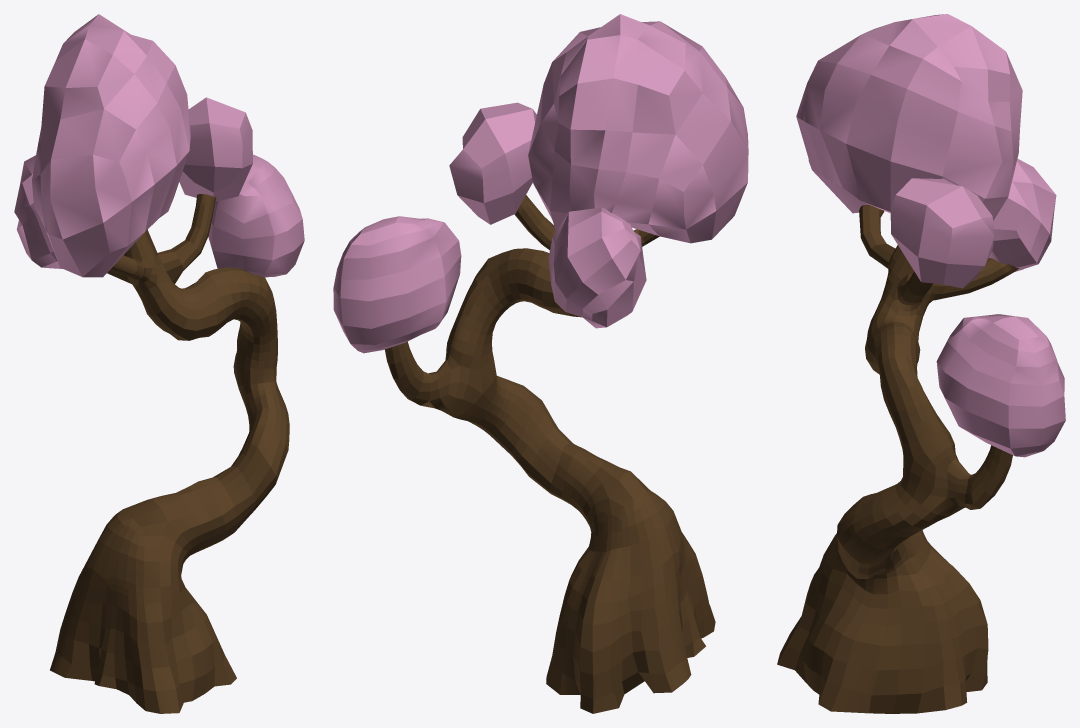
Rendered from cer2.fbx.
3 views of the same model, side by side, from view 1: azimuth 30°, elevation 25°; view 2: azimuth 150°, elevation 25°; view 3: azimuth 270°, elevation 25° (orthographic). The views are drawn at different scales.
Parts seen in each view (by area): view 1: polySurface5; view 2: polySurface5; view 3: polySurface5.
Part boxes in pixels (x1,y1,x2,y2): polySurface5: (14, 14, 304, 713); polySurface5: (333, 14, 748, 713); polySurface5: (777, 14, 1065, 713).
Bounding box in the file's own units: 43.29 × 83.03 × 32.45.
